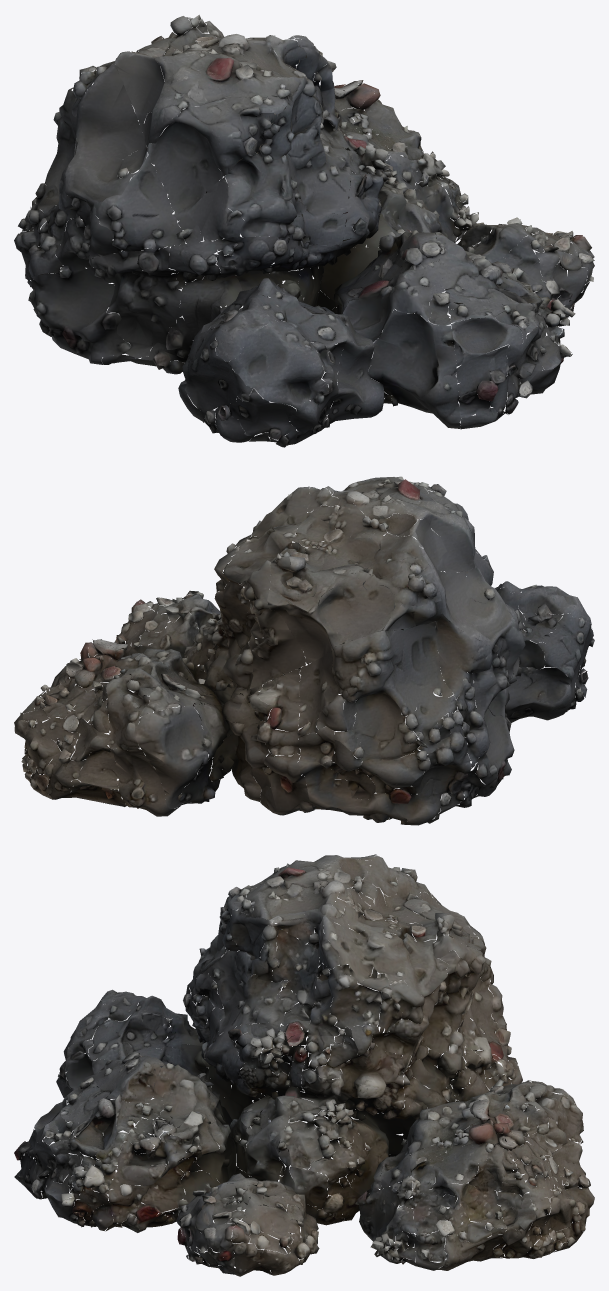
The model's file is rocks.glb.
3 views of the same model, one above another, from view 1: azimuth 30°, elevation 25°; view 2: azimuth 150°, elevation 25°; view 3: azimuth 270°, elevation 25° (orthographic). The views are drawn at different scales.
Visible parts, largest first — view 1: tripo_node_15a8dd10-251e-465d-b1b7-e8661d09bde4; view 2: tripo_node_15a8dd10-251e-465d-b1b7-e8661d09bde4; view 3: tripo_node_15a8dd10-251e-465d-b1b7-e8661d09bde4.
Part boxes in pixels (x1,y1,x2,y2): tripo_node_15a8dd10-251e-465d-b1b7-e8661d09bde4: (14, 14, 594, 447); tripo_node_15a8dd10-251e-465d-b1b7-e8661d09bde4: (14, 476, 594, 825); tripo_node_15a8dd10-251e-465d-b1b7-e8661d09bde4: (14, 854, 594, 1276).
Size of the model in its own units: 0.8731 by 0.5094 by 1.
Materials: 1 (1 with a texture image).
